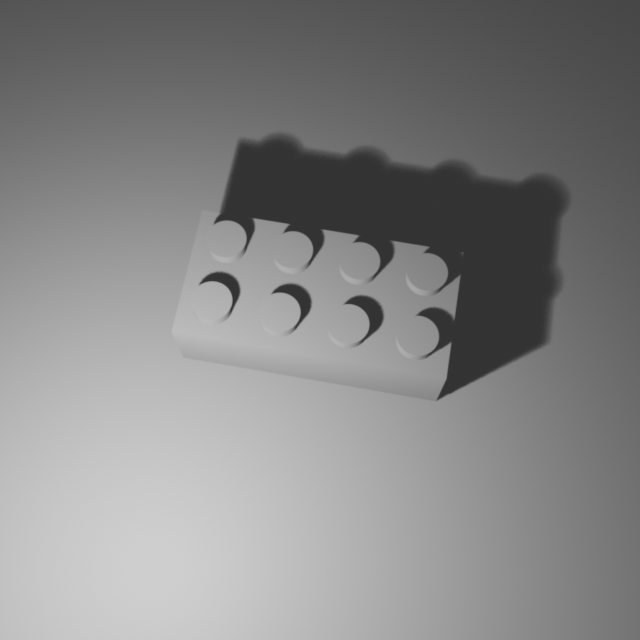lego_2x4: (169, 204, 466, 401)
